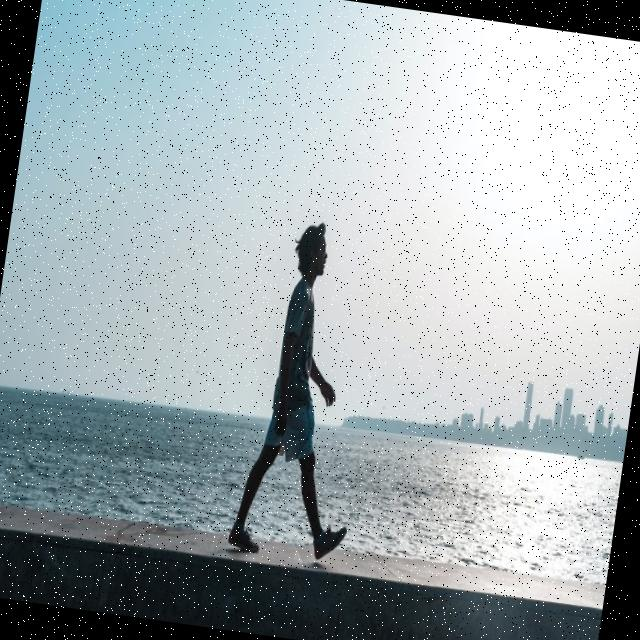Person: (228, 217, 388, 564)
